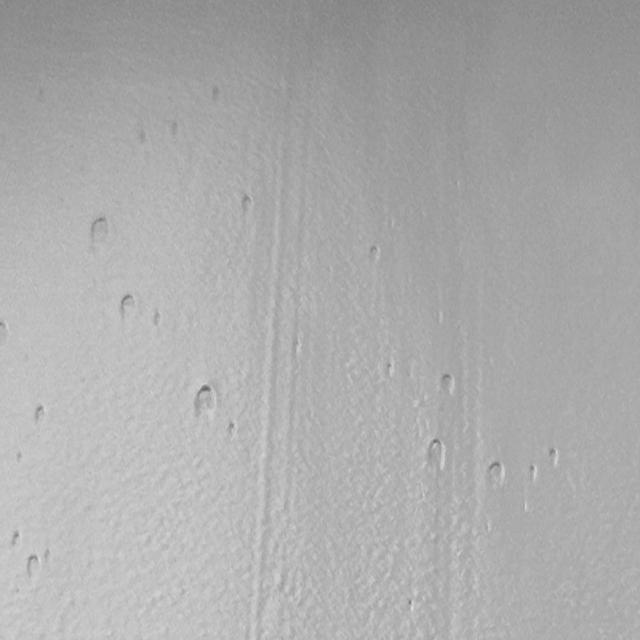pin holes: (87, 210, 114, 250), (192, 385, 221, 422), (423, 438, 446, 471), (482, 459, 505, 490), (116, 291, 138, 321), (437, 371, 458, 398), (31, 402, 51, 430), (25, 556, 43, 586), (208, 84, 228, 109), (238, 193, 258, 218), (365, 244, 384, 268), (166, 120, 185, 144), (7, 529, 24, 554), (382, 360, 401, 382), (134, 127, 152, 150), (547, 445, 563, 470), (0, 318, 12, 346), (526, 462, 540, 485), (152, 307, 166, 330), (226, 418, 239, 439), (404, 596, 417, 612), (15, 449, 27, 465)
